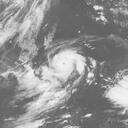cyclone: (41, 43, 86, 88)
